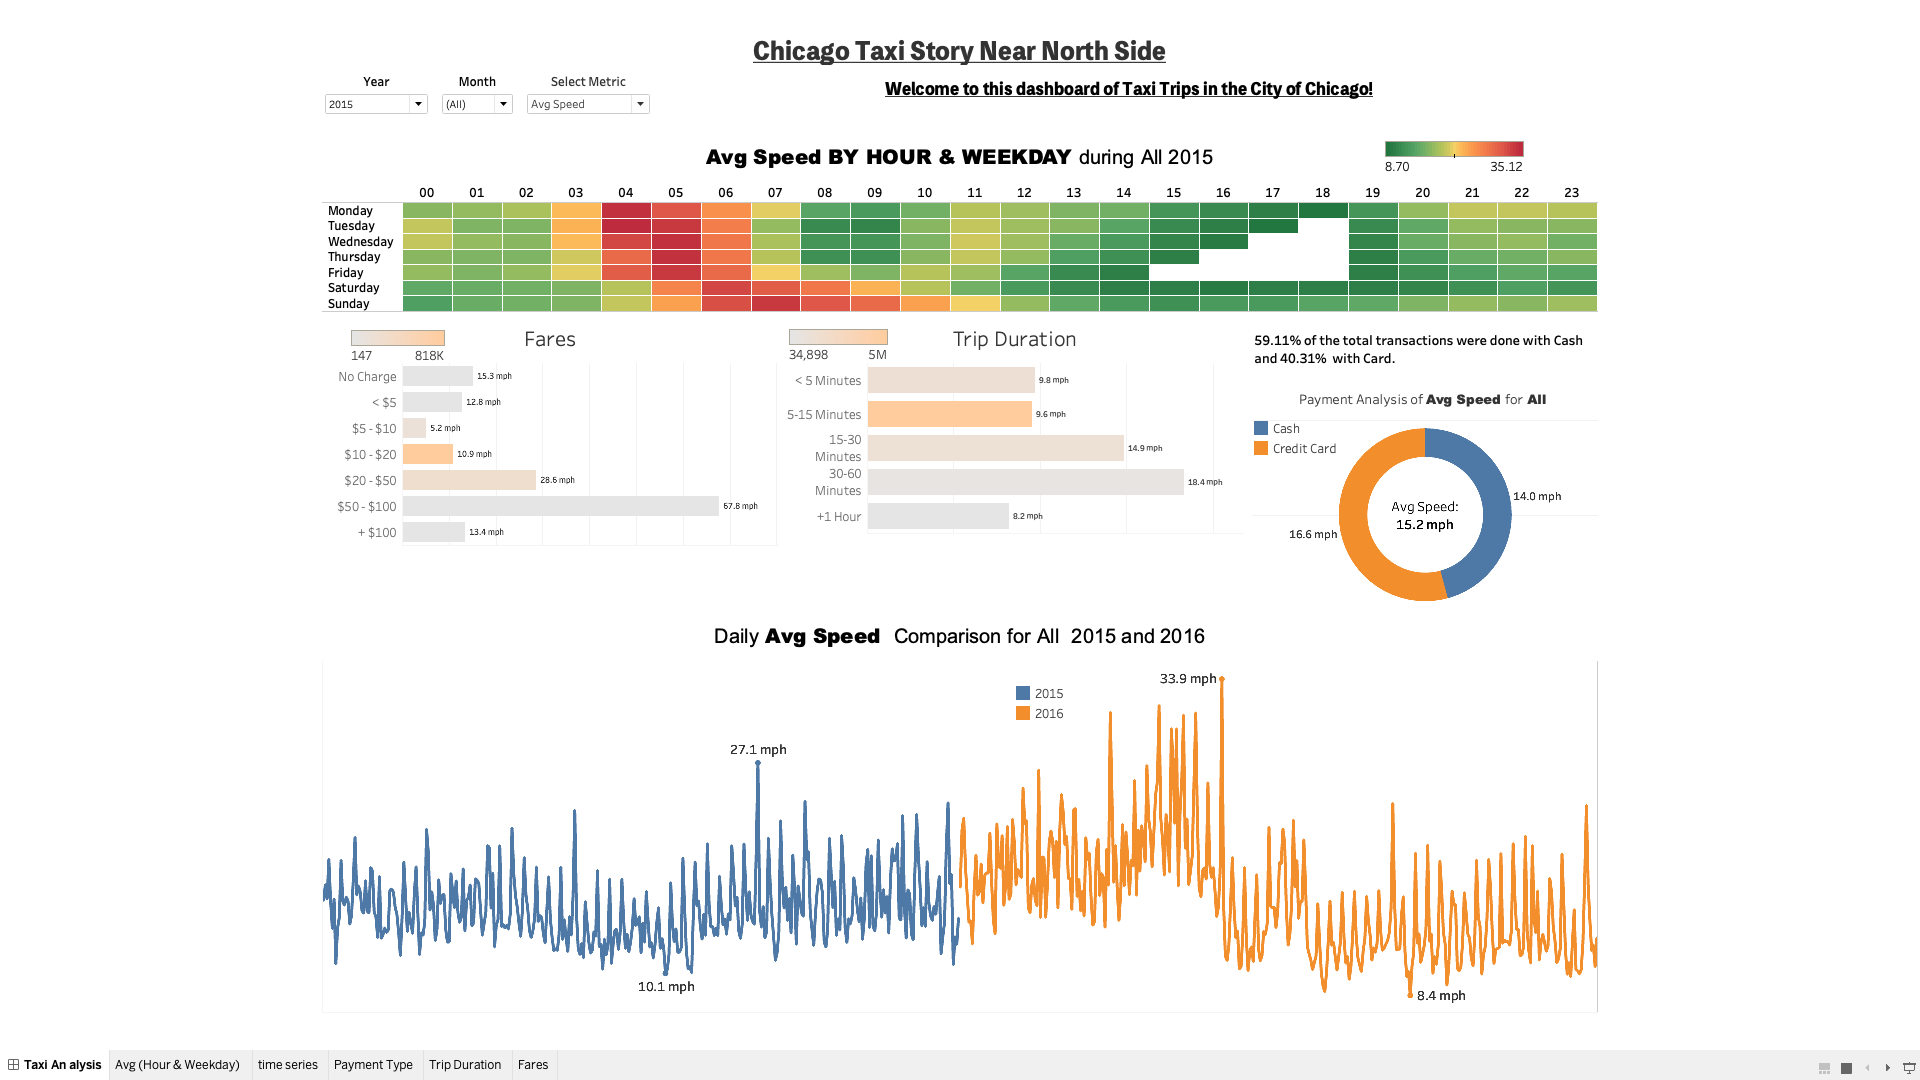

The dashboard page shown, as its layout file describes it:
{"tool":"tableau","page":{"name":"Taxi An alysis","canvas":[1300,1000],"ordinal":0},"visuals":[{"type":"title","box":[8,8,1284,36]},{"type":"filter","title":"Avg (Hour & Weekday)","param":"[federated.0ug1ive0bkq60x1e1gc710y5nesw].[yr:TRIP_START_TIMESTAMP:ok]","box":[8,44,117,65]},{"type":"filter","title":"Avg (Hour & Weekday)","param":"[federated.0ug1ive0bkq60x1e1gc710y5nesw].[mn:TRIP_START_TIMESTAMP:ok]","box":[125,44,85,65]},{"type":"parameter","param":"[Parameters].[Parameter 1]","box":[210,44,137,65]},{"type":"text","box":[347,44,945,65]},{"type":"legend","title":"Avg (Hour & Weekday)","param":"[federated.0ug1ive0bkq60x1e1gc710y5nesw].[usr:Calculation_852306251301195782:qk:","box":[1067,108,155,49]},{"type":"worksheet","title":"Avg (Hour & Weekday)","mark":"Square","rows":["TRIP_START_TIMESTAMP"],"cols":["TRIP_START_TIMESTAMP"],"box":[8,109,1284,182.4]},{"type":"worksheet","title":"Fares","mark":"Automatic","rows":["Calculation_852306251724247049"],"box":[8,291.4,465,296.6]},{"type":"worksheet","title":"Trip Duration","mark":"Automatic","rows":["Calculation_1169528551715852290"],"cols":["Calculation_852306251301195782"],"box":[473,291.4,465,296.6]},{"type":"text","box":[938,291.4,354,66]},{"type":"legend","title":"Trip Duration","param":"[federated.0ug1ive0bkq60x1e1gc710y5nesw].[sum:Number of Records:qk]","box":[471,296,115,52]},{"type":"legend","title":"Fares","param":"[federated.0ug1ive0bkq60x1e1gc710y5nesw].[sum:Number of Records:qk]","box":[33,297,110,52]},{"type":"worksheet","title":"Payment Type","mark":"Pie","rows":["Number of Records","Number of Records"],"box":[938,357.4,354,230.6]},{"type":"legend","title":"Payment Type","param":"[federated.0ug1ive0bkq60x1e1gc710y5nesw].[none:PAYMENT_TYPE:nk]","box":[937,389,140,76]},{"type":"worksheet","title":"time series","mark":"Line","cols":["TRIP_START_TIMESTAMP"],"box":[8,588,1284,404]},{"type":"legend","title":"time series","param":"[federated.0ug1ive0bkq60x1e1gc710y5nesw].[yr:TRIP_START_TIMESTAMP:ok]","box":[699,654,113,61]}]}

Visuals, with their boxes on the page's 1300x1000 design canvas (x1, y1, x2, y2). These are canvas units, not pixel positions in the 1920x1080 screenshot, which may show the page scaled, cropped or inside an application window:
title: bbox=(8, 8, 1292, 44)
"Avg (Hour & Weekday)" filter: bbox=(8, 44, 125, 109)
"Avg (Hour & Weekday)" filter: bbox=(125, 44, 210, 109)
parameter: bbox=(210, 44, 347, 109)
text: bbox=(347, 44, 1292, 109)
"Avg (Hour & Weekday)" legend: bbox=(1067, 108, 1222, 157)
"Avg (Hour & Weekday)" worksheet (Square marks): bbox=(8, 109, 1292, 291)
"Fares" worksheet: bbox=(8, 291, 473, 588)
"Trip Duration" worksheet: bbox=(473, 291, 938, 588)
text: bbox=(938, 291, 1292, 357)
"Trip Duration" legend: bbox=(471, 296, 586, 348)
"Fares" legend: bbox=(33, 297, 143, 349)
"Payment Type" worksheet (Pie marks): bbox=(938, 357, 1292, 588)
"Payment Type" legend: bbox=(937, 389, 1077, 465)
"time series" worksheet (Line marks): bbox=(8, 588, 1292, 992)
"time series" legend: bbox=(699, 654, 812, 715)
